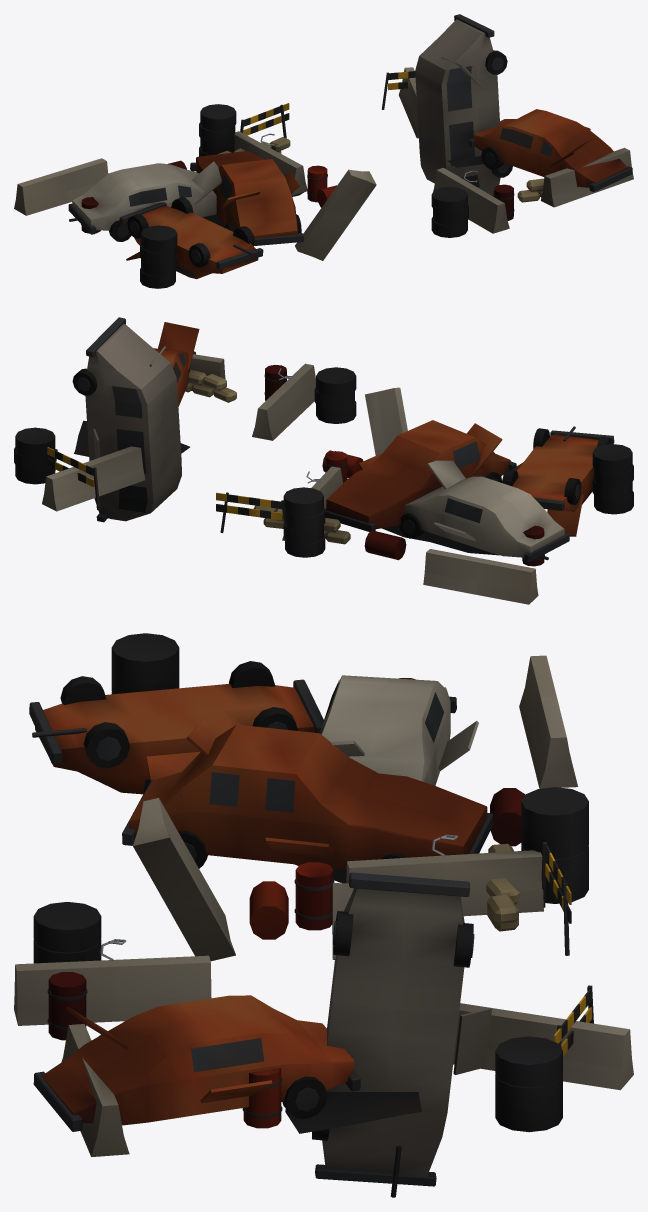
File: roadblock_wreck_line.glb
3 views of the same model, one above another, from view 1: azimuth 30°, elevation 25°; view 2: azimuth 150°, elevation 25°; view 3: azimuth 270°, elevation 25° (orthographic). The views are drawn at different scales.
Parts seen in each view (by area): view 1: rust, paint, concrete, rubber, metal_dark, hazard, canvas; view 2: paint, rust, concrete, rubber, metal_dark, canvas, hazard; view 3: rust, paint, concrete, rubber, metal_dark, canvas, hazard.
Part boxes in pixels (x1,y1,x2,y2): rust: (81,109,627,279); paint: (72,19,500,230); concrete: (14,67,633,260); rubber: (109,50,512,288); metal_dark: (68,14,632,277); hazard: (243,71,415,135); canvas: (218,137,544,202); paint: (85,324,564,557); rust: (154,322,598,566); concrete: (42,348,538,604); rubber: (14,367,633,557); metal_dark: (52,317,614,562); canvas: (185,369,350,544); hazard: (47,447,282,520); rust: (35,678,525,1128); paint: (320,675,491,1176); concrete: (14,655,633,1156); rubber: (33,633,588,1140); metal_dark: (29,679,593,1197); canvas: (99,843,519,1035); hazard: (545,845,591,1056).
Size of what is drawn, in the model's own units: 16.45 by 5.42 by 9.54.
